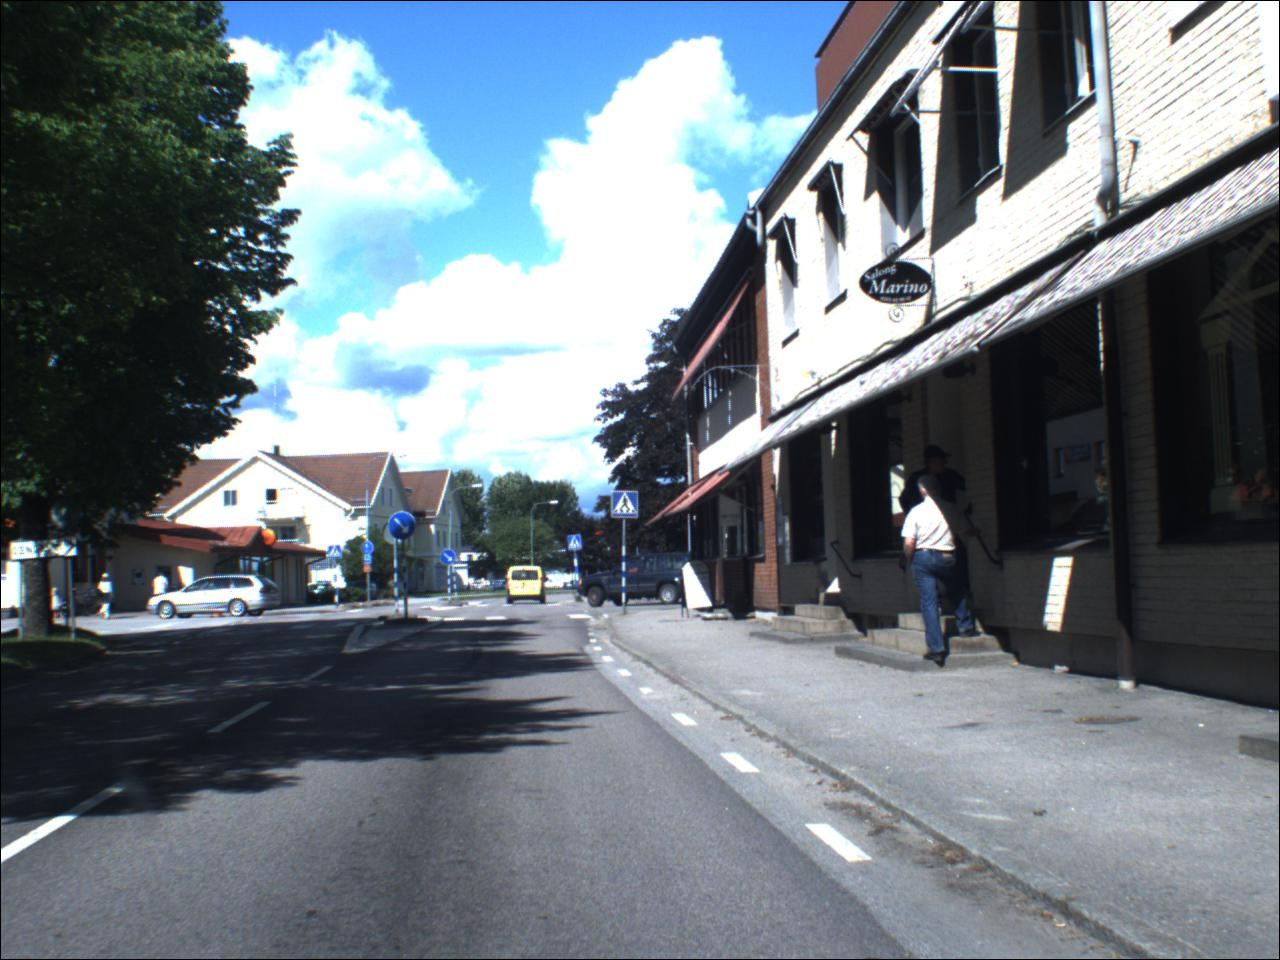PASS_RIGHT_SIDE: (391, 513, 418, 542), (442, 551, 458, 567)
PEDESTRIAN_CROSSING: (614, 493, 641, 520), (570, 536, 585, 554), (330, 547, 345, 562)
